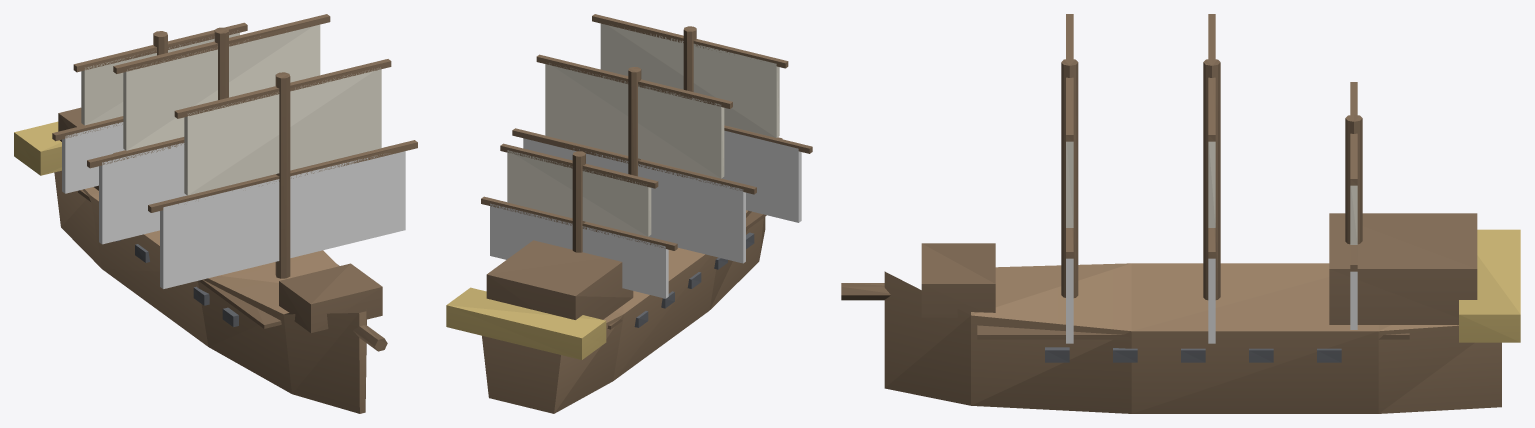
The model's file is Frigate.glb.
3 renders of one model, left to right at view 1: azimuth 30°, elevation 25°; view 2: azimuth 150°, elevation 25°; view 3: azimuth 270°, elevation 25°, orthographic. The views are drawn at different scales.
Visible parts, largest first — view 1: Body; view 2: Body; view 3: Body.
Part boxes in pixels (x1,y1,x2,y2): Body: [14, 14, 417, 413]; Body: [446, 14, 812, 413]; Body: [841, 14, 1520, 413].
Size of the model in its own units: 0.5792 by 0.58 by 1.1.
